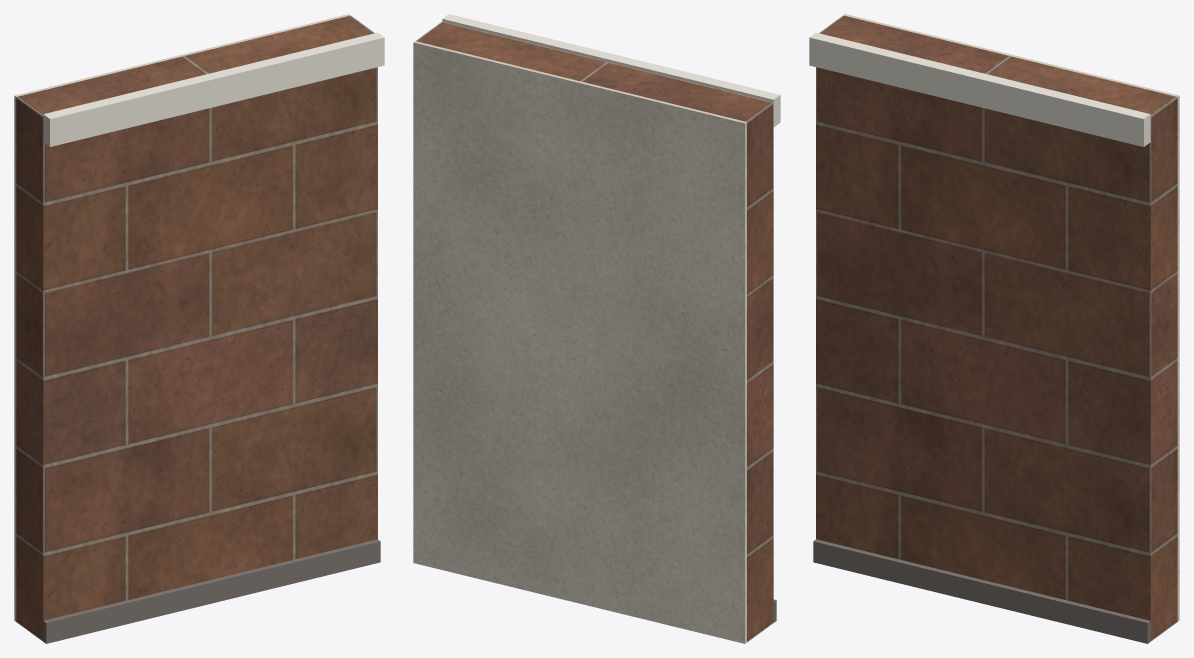
The model's file is wall_stone_plain.glb.
3 renders of one model, left to right at view 1: azimuth 30°, elevation 25°; view 2: azimuth 150°, elevation 25°; view 3: azimuth 330°, elevation 25°, orthographic.
Visible parts, largest first — view 1: wall_stone_plain_stone, wall_stone_plain_trim, wall_stone_plain_dark, wall_stone_plain_plaster; view 2: wall_stone_plain_plaster, wall_stone_plain_stone, wall_stone_plain_trim; view 3: wall_stone_plain_stone, wall_stone_plain_trim, wall_stone_plain_dark, wall_stone_plain_plaster.
Part boxes in pixels (x1=…): wall_stone_plain_stone: x1=16, y1=15, x2=377, y2=641; wall_stone_plain_trim: x1=43, y1=32, x2=384, y2=146; wall_stone_plain_dark: x1=43, y1=539, x2=380, y2=643; wall_stone_plain_plaster: x1=14, y1=14, x2=350, y2=621; wall_stone_plain_plaster: x1=413, y1=41, x2=746, y2=643; wall_stone_plain_stone: x1=416, y1=21, x2=773, y2=642; wall_stone_plain_trim: x1=442, y1=14, x2=780, y2=127; wall_stone_plain_stone: x1=816, y1=15, x2=1177, y2=641; wall_stone_plain_trim: x1=809, y1=32, x2=1150, y2=146; wall_stone_plain_dark: x1=813, y1=539, x2=1150, y2=643; wall_stone_plain_plaster: x1=843, y1=14, x2=1179, y2=621.
Size of the model in its own units: 2 by 3.02 by 0.37.
Materials: 4 (2 with a texture image).
